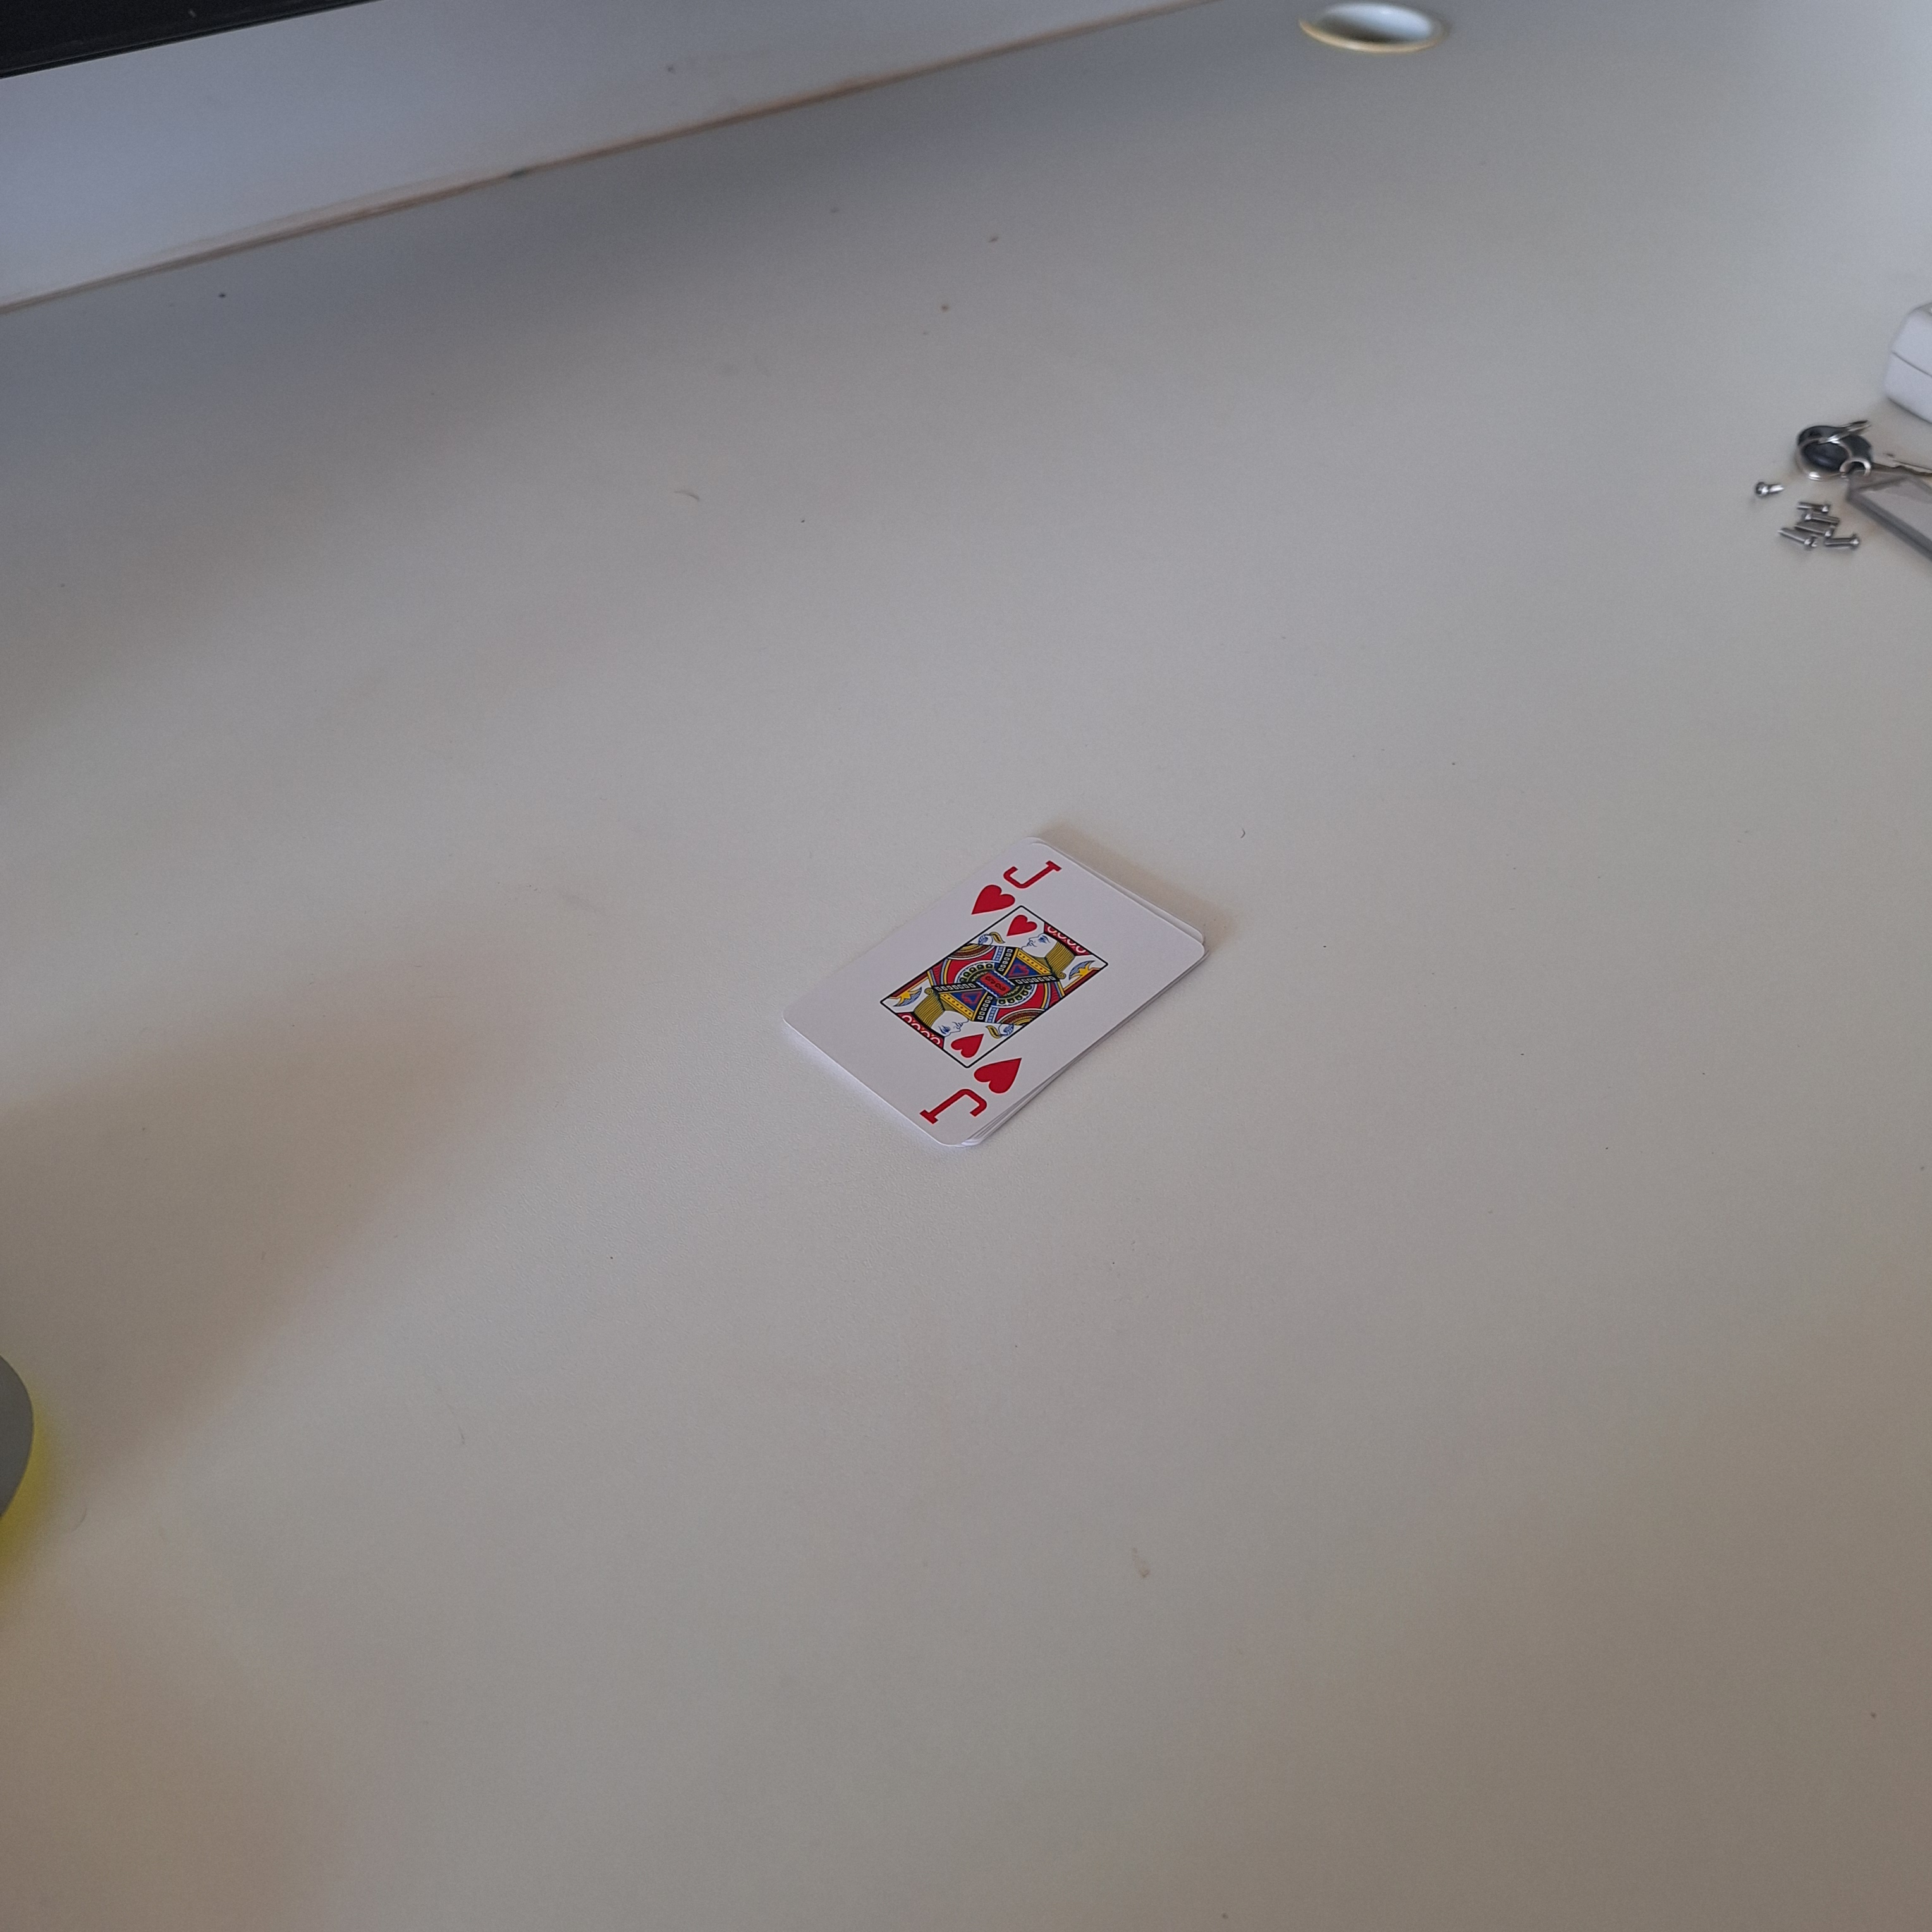JC: (913, 1049, 1031, 1138), (966, 856, 1069, 916)
